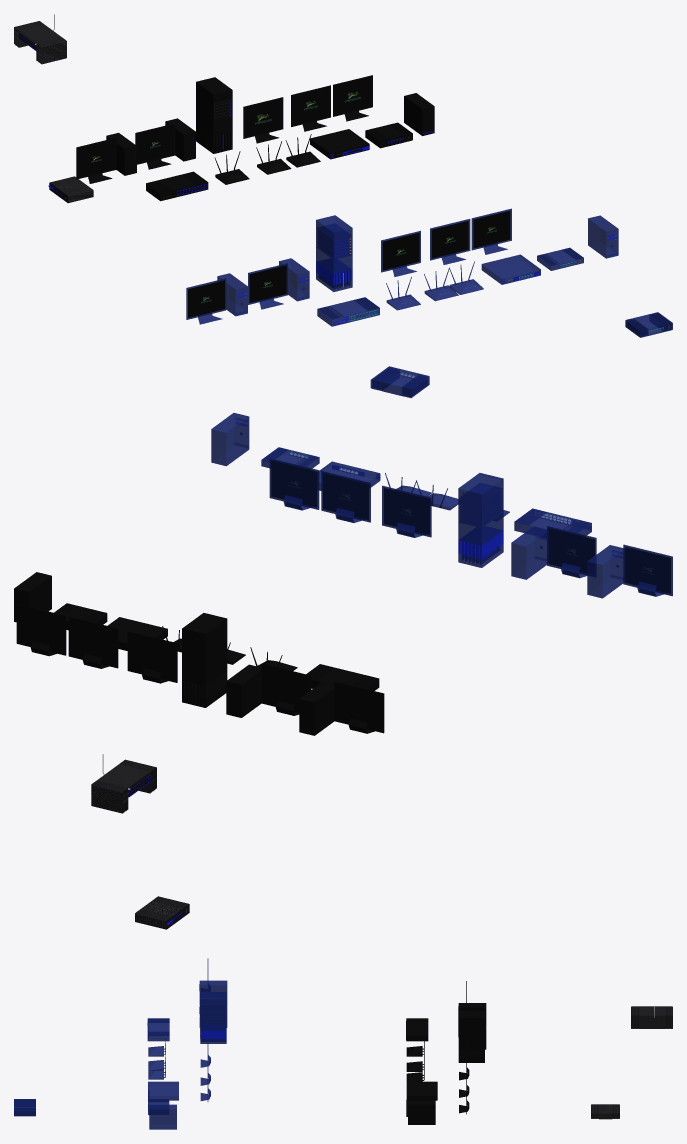
The model's file is xiaojiaohuanji.FBX.
3 renders of one model, top to bottom at view 1: azimuth 30°, elevation 25°; view 2: azimuth 150°, elevation 25°; view 3: azimuth 270°, elevation 25°, orthographic. The views are drawn at different scales.
Parts seen in each view (by area): view 1: Box192, Box039, Box198, Box084, Line016, 对象009, 对象010, 对象256, 对象326, 对象323, 对象328, Line015 (+17 smaller); view 2: 工程师站组, 工程师站 (×2), Box192, Box039, 工程师站002, 操作员站001, 工程师站001, 操作员站组001, 操作员站组, 操作员站, 对象279, 对象318 (+16 smaller); view 3: Box192, Box039, 对象279, 对象061, Box064, Box084, Box198, Line016, Line015, Box044, Box194, Box173 (+2 smaller).
Part boxes in pixels (box(x1,y1,x2,y2)): Box192: box(316, 215, 352, 291); Box039: box(196, 77, 232, 153); Box198: box(481, 254, 540, 284); Box084: box(310, 129, 369, 159); Line016: box(317, 297, 379, 326); 对象009: box(292, 87, 329, 124); 对象010: box(334, 77, 371, 114); 对象256: box(249, 265, 286, 302); 对象326: box(431, 221, 468, 258); 对象323: box(382, 233, 419, 270); 对象328: box(473, 211, 510, 248); Line015: box(146, 171, 208, 201); 工程师站组: box(16, 604, 118, 668); 工程师站 (×2): box(127, 485, 431, 683); Box192: box(458, 473, 503, 567); Box039: box(182, 613, 227, 707); 工程师站002: box(269, 458, 319, 510); 操作员站001: box(334, 681, 384, 733); 工程师站001: box(321, 471, 370, 522); 操作员站组001: box(623, 544, 672, 596); 操作员站组: box(547, 526, 596, 578); 操作员站: box(261, 663, 311, 715); 对象279: box(211, 413, 249, 466); 对象318: box(587, 545, 623, 598); Box192: box(200, 992, 226, 1043); Box039: box(458, 1011, 484, 1062); 对象279: box(149, 1104, 176, 1129); 对象061: box(407, 1100, 435, 1124); Box064: box(639, 1006, 665, 1028); Box084: box(406, 1081, 437, 1100); Box198: box(148, 1081, 178, 1100); Line016: box(147, 1018, 169, 1041); Line015: box(406, 1018, 428, 1041); Box044: box(458, 1024, 484, 1038); Box194: box(200, 1005, 226, 1019); Box173: box(406, 1049, 424, 1081).
Bounding box in the file's own units: 7813 × 3024 × 15040.
14 materials, 2 textured.
